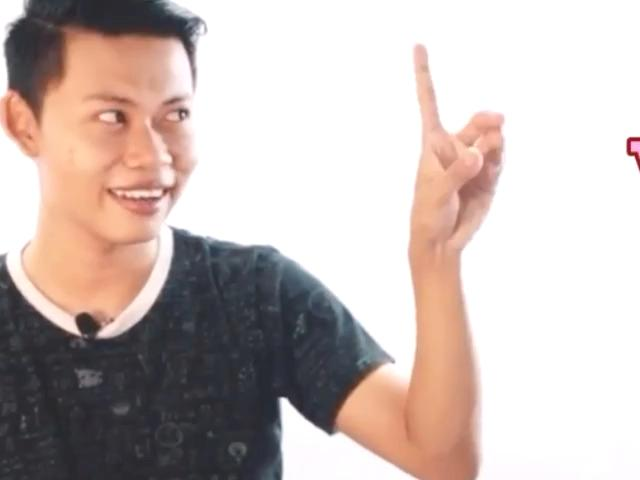X: (395, 31, 513, 261)
